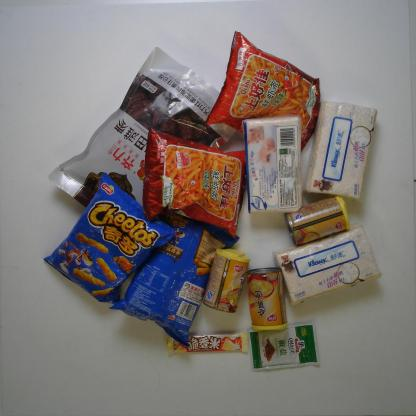Canned Food: (284, 196, 352, 246), (202, 248, 250, 313), (247, 268, 289, 334)
Chocolate: (167, 332, 249, 356)
Dried Food: (49, 47, 239, 236)
Puffed Food: (108, 209, 240, 349), (42, 171, 174, 306), (205, 30, 322, 154), (142, 126, 246, 243)
Seasoner: (248, 322, 319, 372)
Tissue: (273, 226, 382, 307), (301, 97, 377, 200), (242, 116, 302, 215)
